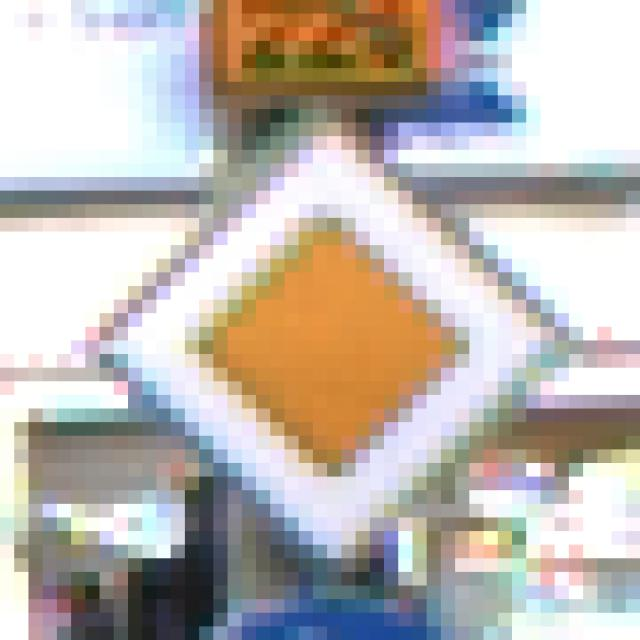Main Road: (72, 83, 556, 573)
